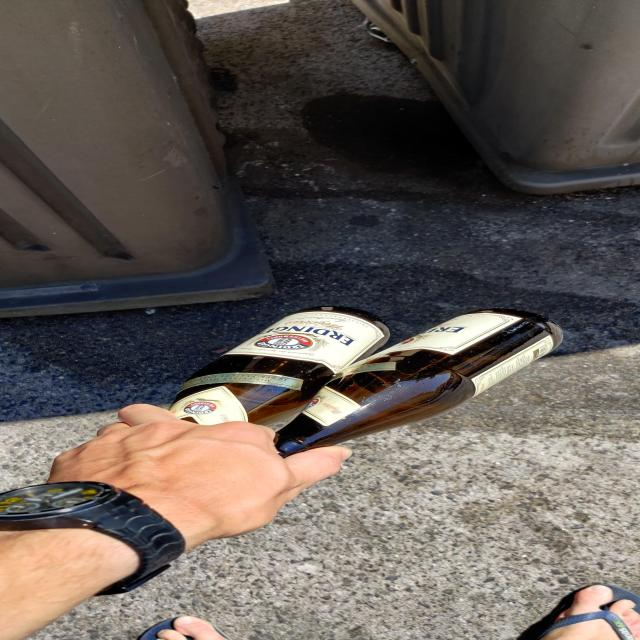litter: (274, 308, 564, 458), (169, 306, 392, 425)
